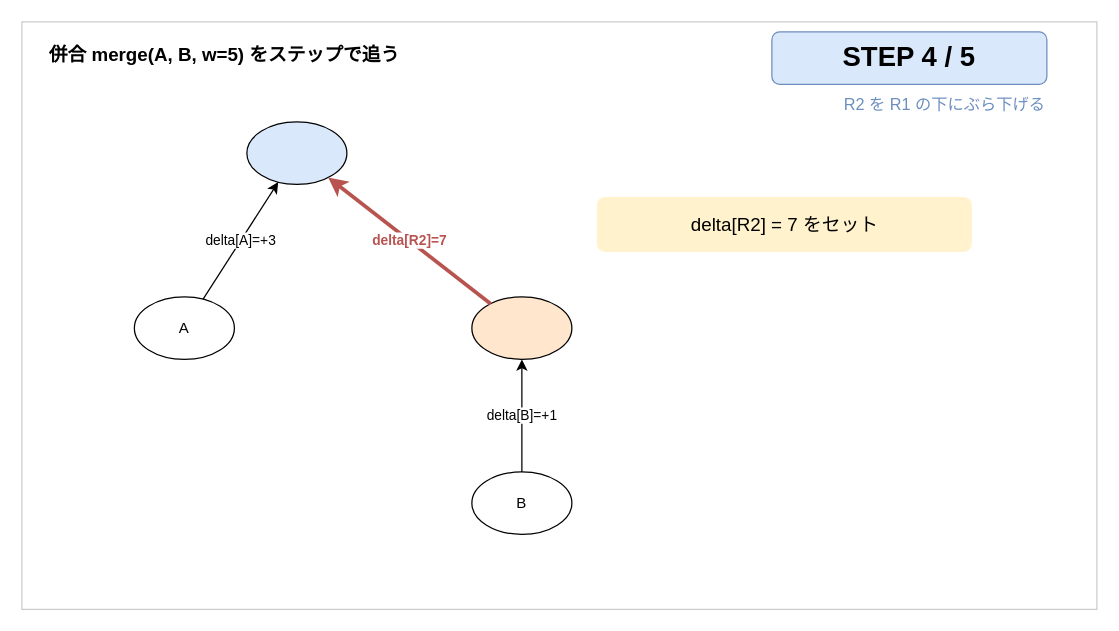
The diagram is 1119 pixels wide and 631 high, and some of its shapes have lost their labels. The centre of each missing label's shape, as x and y in pixels:
R1 pot=0: (x=296, y=152)
R2: (x=521, y=327)
